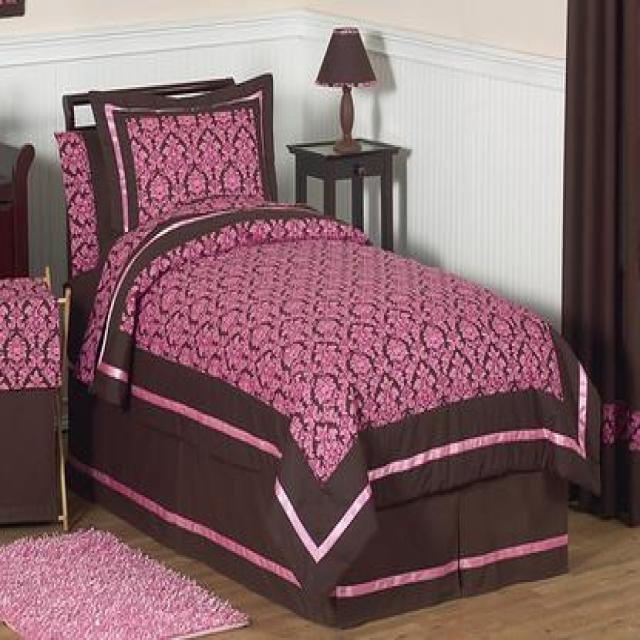bed: (54, 70, 601, 628)
table: (285, 134, 401, 250)
